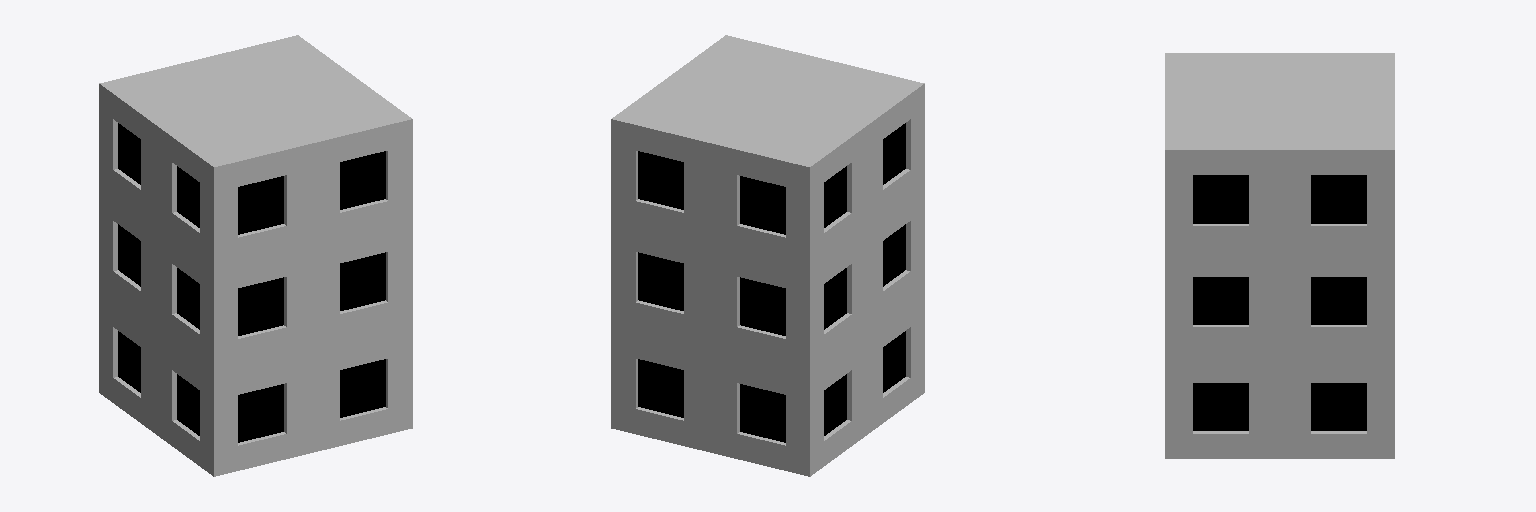
3 views of the same model, side by side, from view 1: azimuth 30°, elevation 25°; view 2: azimuth 150°, elevation 25°; view 3: azimuth 270°, elevation 25° (orthographic).
Size of the model in its own units: 41 by 61 by 41.
Materials: 1 (1 with a texture image).